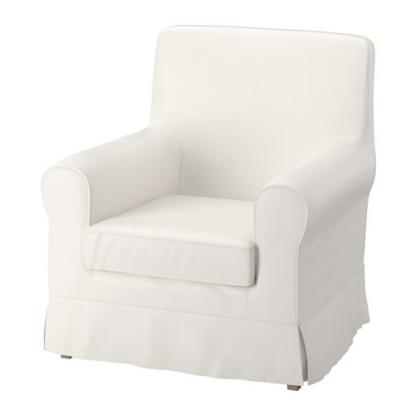Chair: (37, 23, 379, 390)
